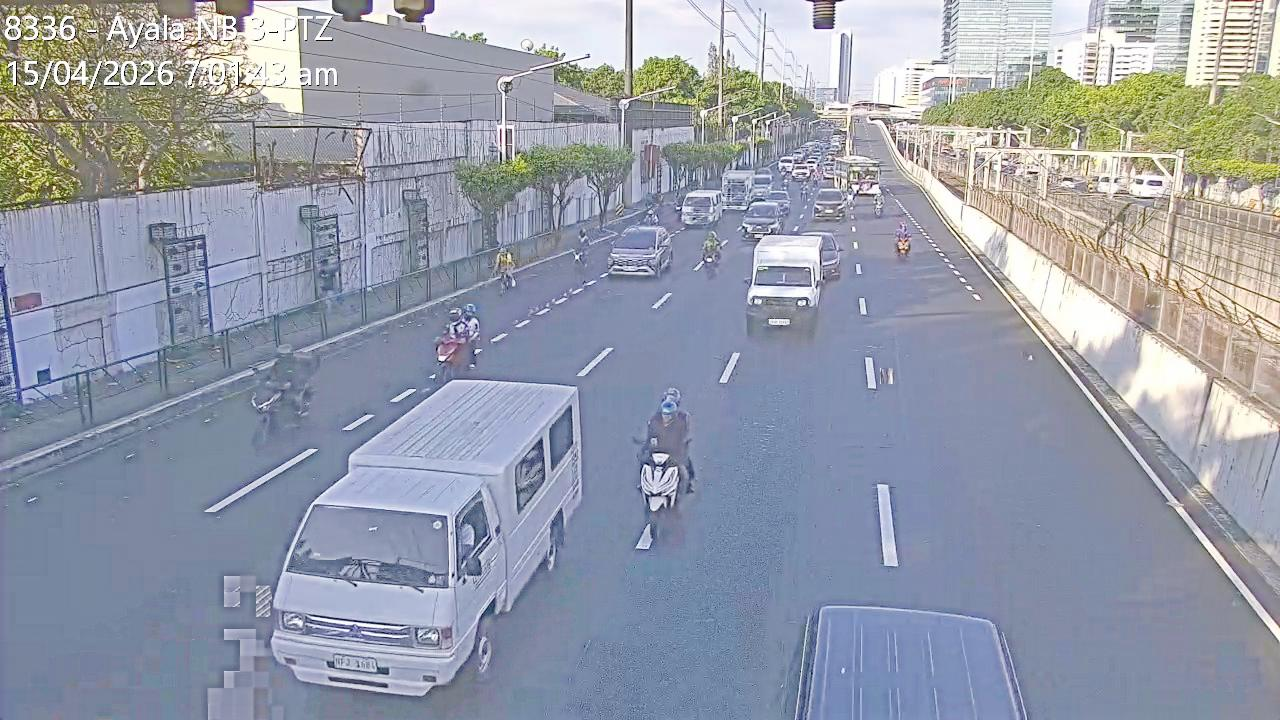Car: (277, 381, 584, 695), (777, 591, 1029, 720), (744, 234, 826, 332), (608, 228, 674, 280), (808, 230, 844, 282), (740, 202, 786, 242), (680, 187, 722, 228), (811, 187, 850, 221), (764, 185, 791, 216), (791, 163, 812, 181), (819, 165, 834, 181)
Motor: (640, 382, 690, 544), (245, 338, 320, 444), (432, 308, 482, 382), (699, 232, 724, 278), (574, 228, 594, 270), (894, 224, 916, 261)
Not Accident: (271, 315, 584, 698), (742, 224, 844, 338), (745, 187, 793, 234)
